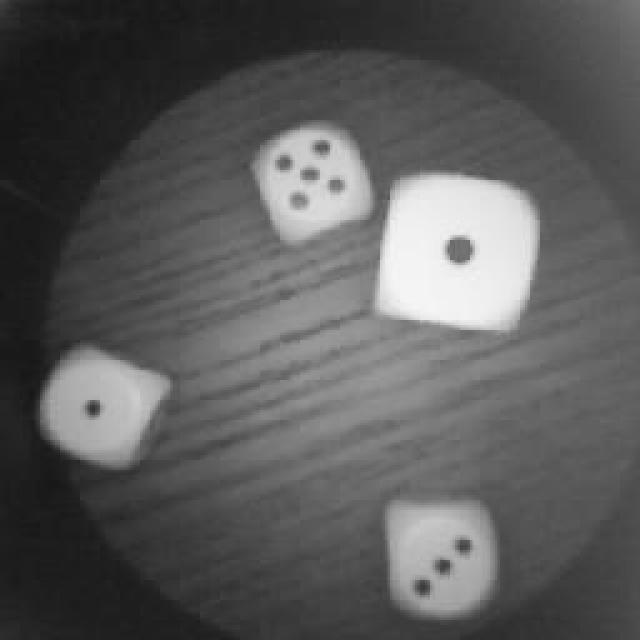dice_1: (375, 165, 540, 335), (40, 348, 168, 470)
dice_3: (380, 498, 505, 622)
dice_5: (253, 118, 375, 240)
